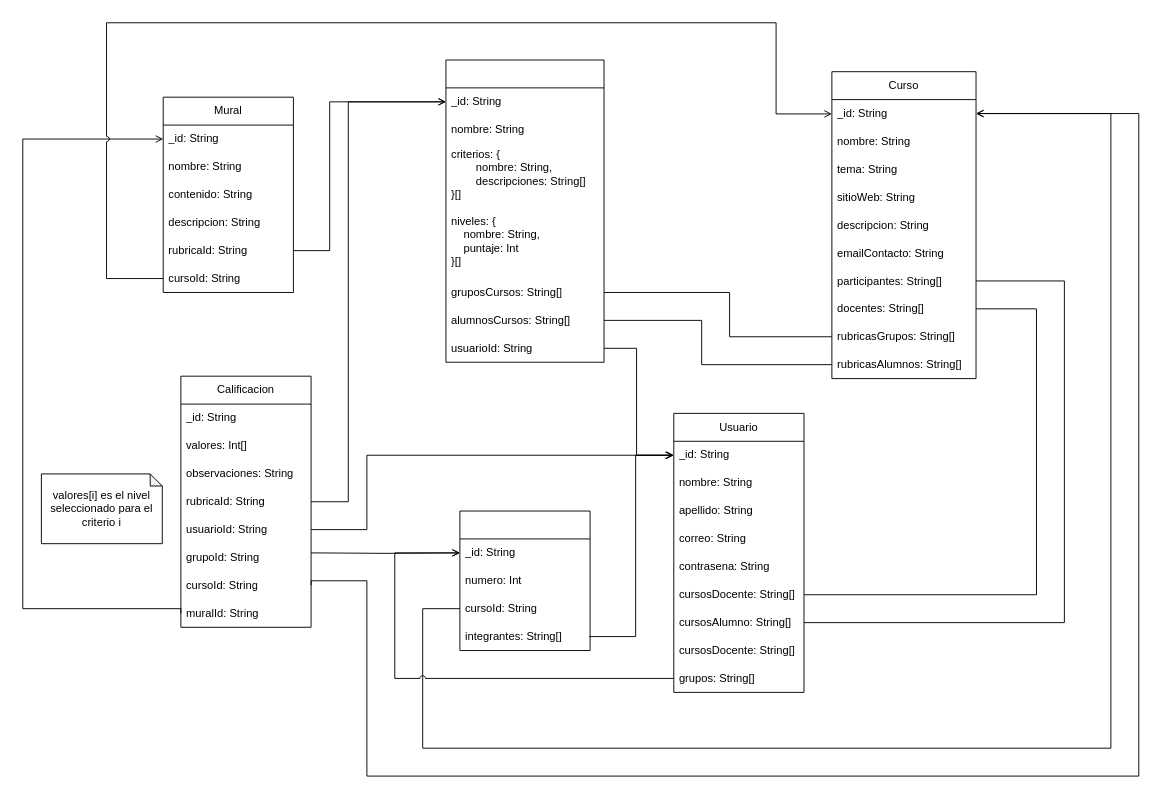
The diagram is 1163 pixels wide and 800 high, and some of its shapes have lost their labels. The box of each missing label's shape, as (x1, y1, x2, y2) in pixels:
Grupo: (459, 510, 590, 651)
Rubrica: (445, 59, 604, 362)
